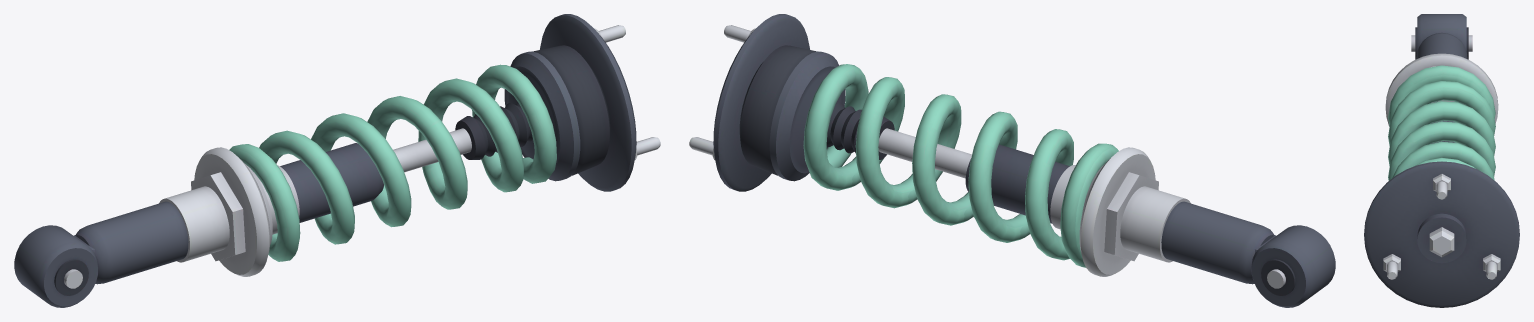
Rendered from damper.glb.
3 views of the same model, side by side, from view 1: azimuth 30°, elevation 25°; view 2: azimuth 150°, elevation 25°; view 3: azimuth 270°, elevation 25° (orthographic). The views are drawn at different scales.
Parts seen in each view (by area): view 1: shock-absorber_body; view 2: shock-absorber_body; view 3: shock-absorber_body.
Boxes of the visible parts, <box> form: shock-absorber_body: <box>14,14,660,307</box>; shock-absorber_body: <box>689,14,1335,307</box>; shock-absorber_body: <box>1364,14,1519,307</box>.
Bounding box in the file's own units: 0.5192 × 0.1368 × 0.1368.
Materials: 1 (1 with a texture image).
